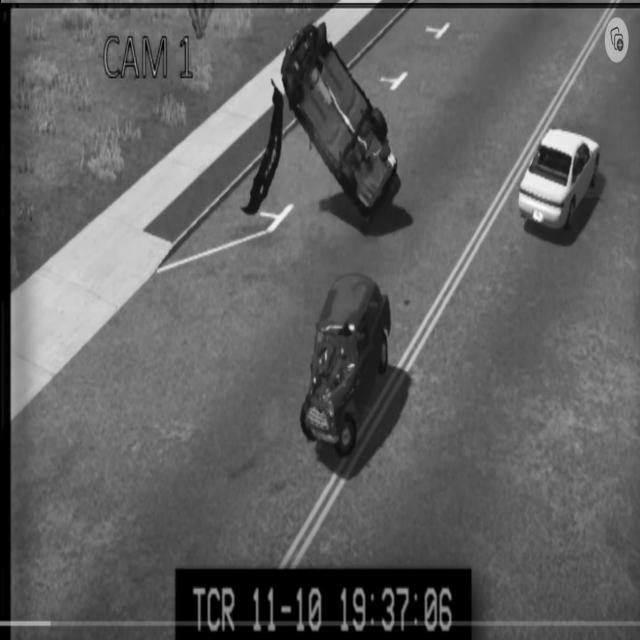accident: (280, 19, 399, 234), (297, 269, 400, 471)
vehicle: (516, 126, 602, 238)
